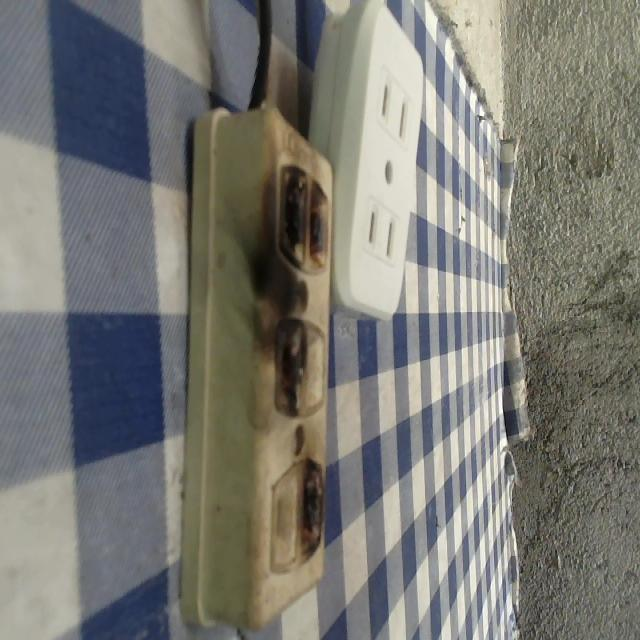-: (267, 159, 332, 277), (264, 319, 314, 417), (296, 449, 335, 555)
